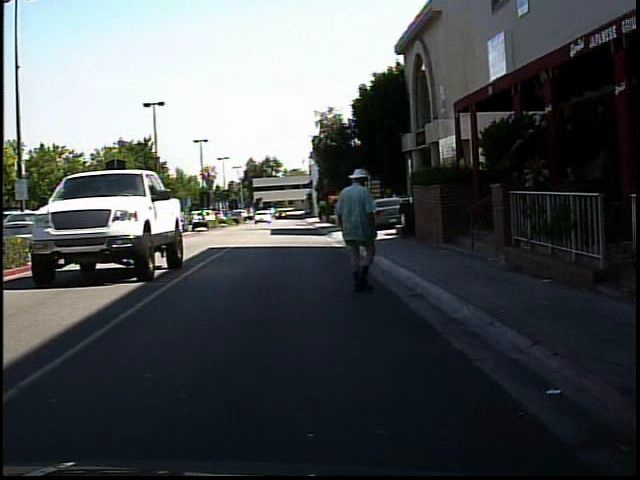person: (330, 163, 389, 296), (37, 199, 64, 265), (197, 203, 212, 228)
